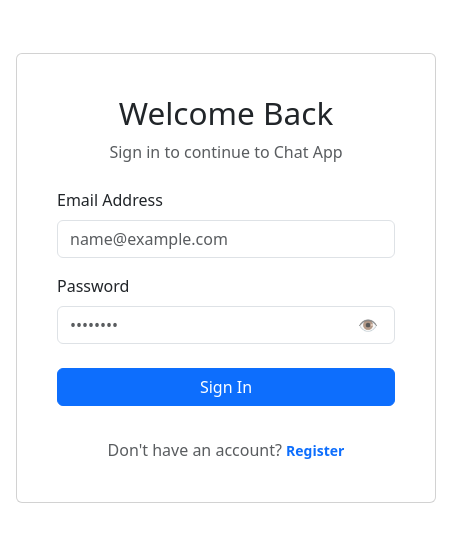
Test case: Login Component › displays API error message when login request fails
The image size is (453, 557).
Type "user@example.com" into the field labelled "Email Address" at [226, 239], box [57,220,395,258]
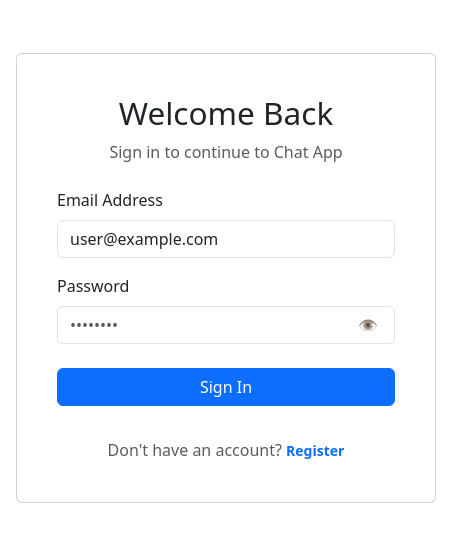
Type "wrongpassword" into the password field labelled "Password" at [226, 325], box [57,306,395,344]
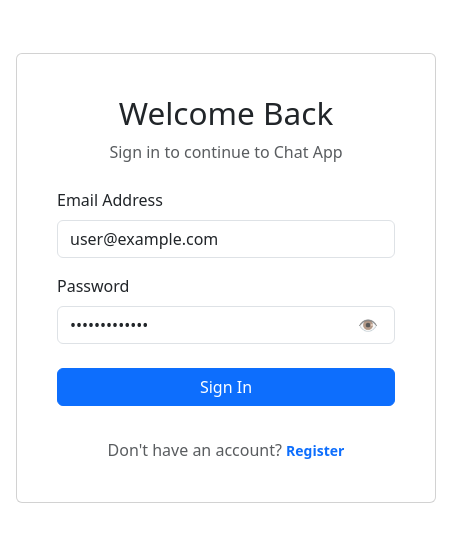
Click the button "Sign In" at [226, 387], box [57,368,395,406]
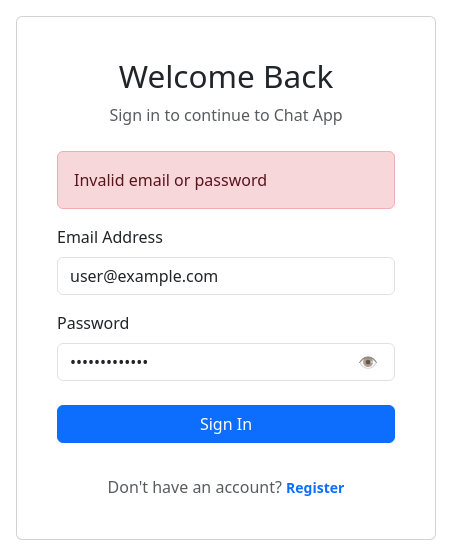
Now the text "Invalid email or password" is shown, box [57,151,395,209]
